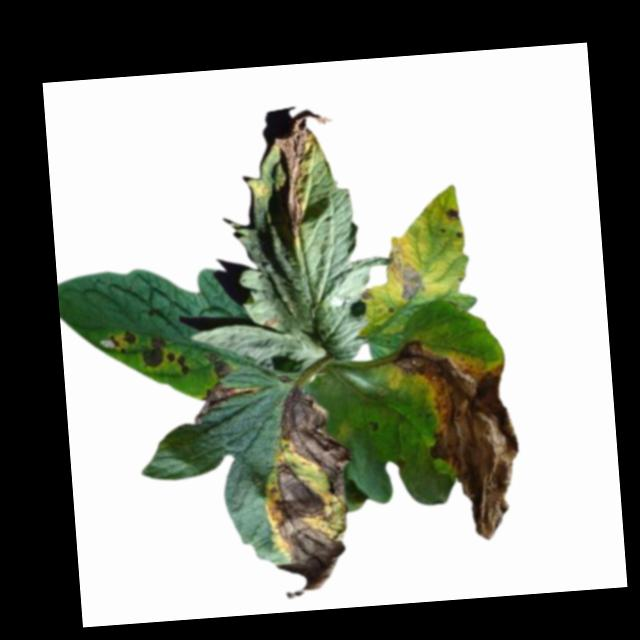Early_blight: (390, 335, 526, 547), (256, 382, 359, 604), (269, 108, 341, 243), (190, 350, 259, 424), (385, 246, 426, 304), (141, 335, 168, 370), (108, 330, 136, 354), (166, 349, 188, 377), (441, 206, 461, 226)
